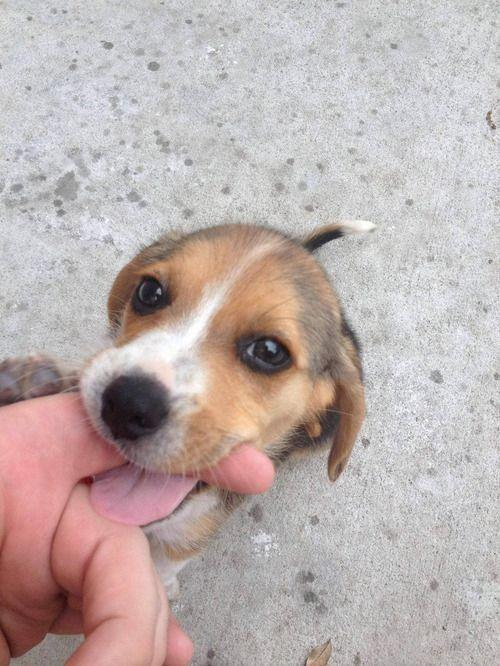puppy-dog: (0, 219, 373, 600)
